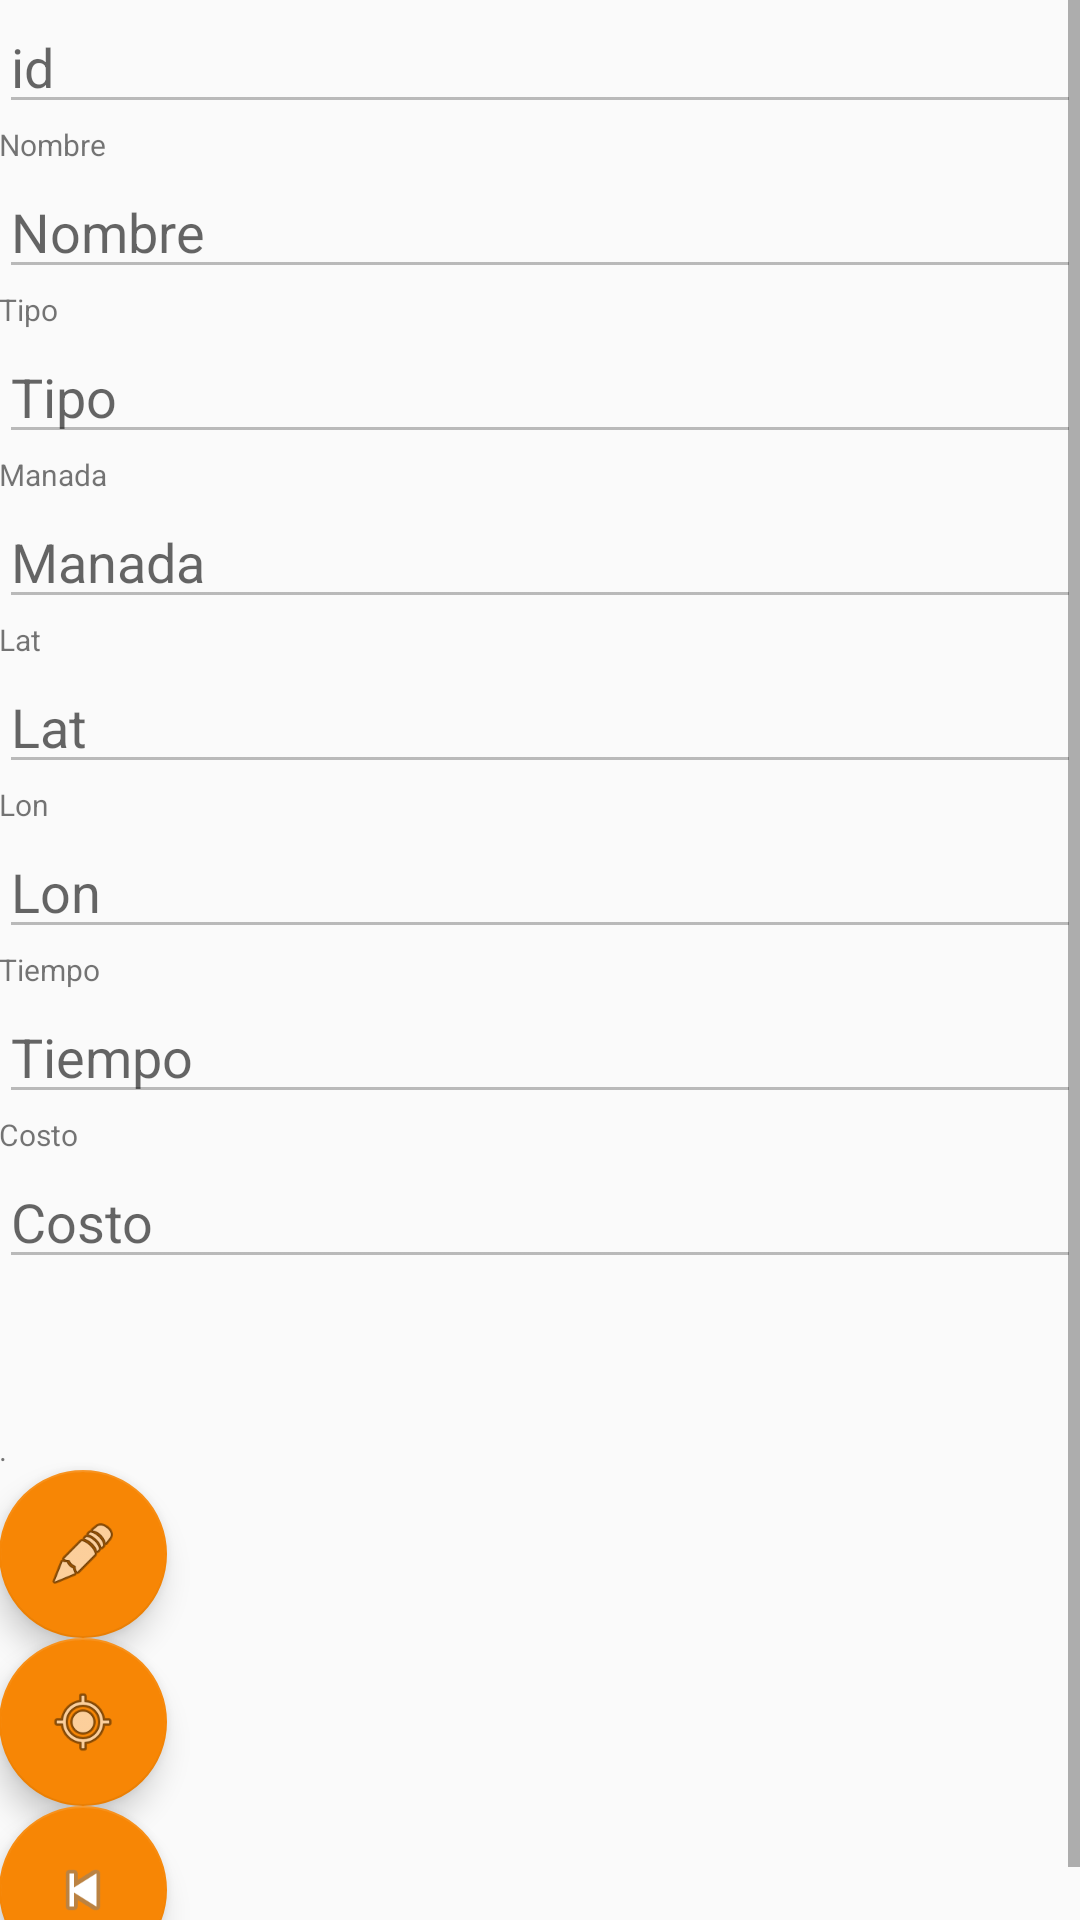

Locate icon controls on the screen. Image size 1080w x 1920h, boxes as bbox=(x1, y1, x2, y2).
edit: bbox=(0, 1470, 167, 1638)
mylocation: bbox=(0, 1638, 167, 1806)
